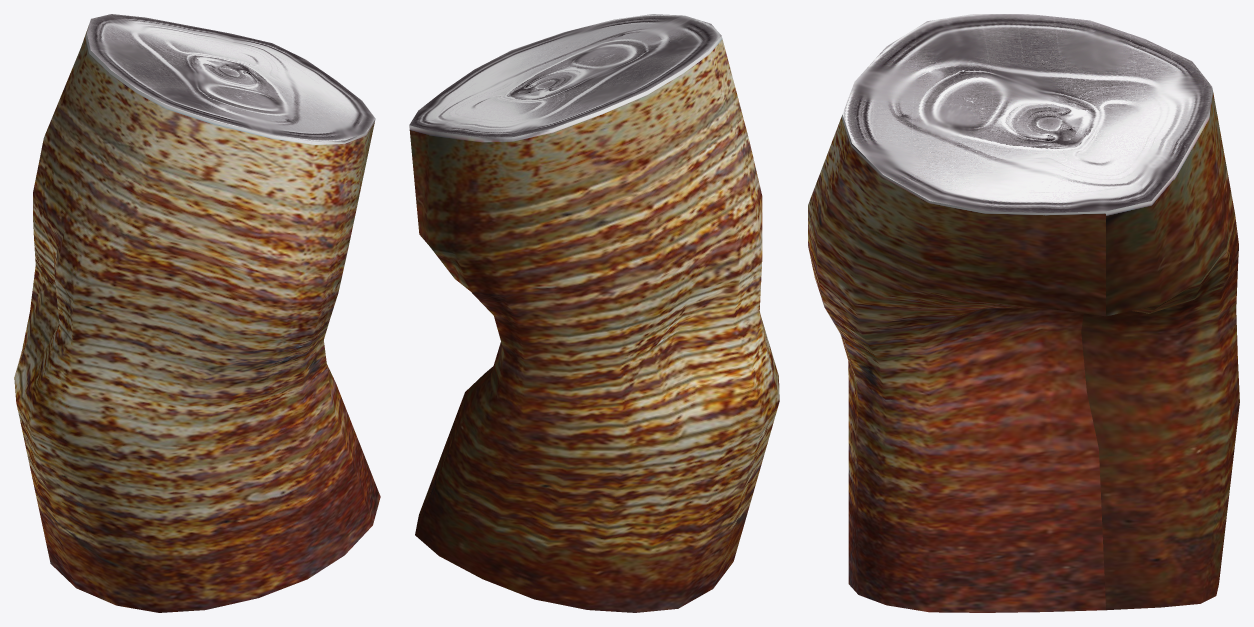
The model's file is CanBBroken_1.fbx.
3 renders of one model, left to right at view 1: azimuth 30°, elevation 25°; view 2: azimuth 150°, elevation 25°; view 3: azimuth 270°, elevation 25°, orthographic. The views are drawn at different scales.
Visible parts, largest first — view 1: CanTinCrooked; view 2: CanTinCrooked; view 3: CanTinCrooked.
Boxes of the visible parts, left/top/right/bottom form: CanTinCrooked: left=14, top=14, right=380, bottom=612; CanTinCrooked: left=409, top=14, right=779, bottom=612; CanTinCrooked: left=808, top=14, right=1239, bottom=612.
Bounding box in the file's own units: 70.27 × 110 × 78.07.
